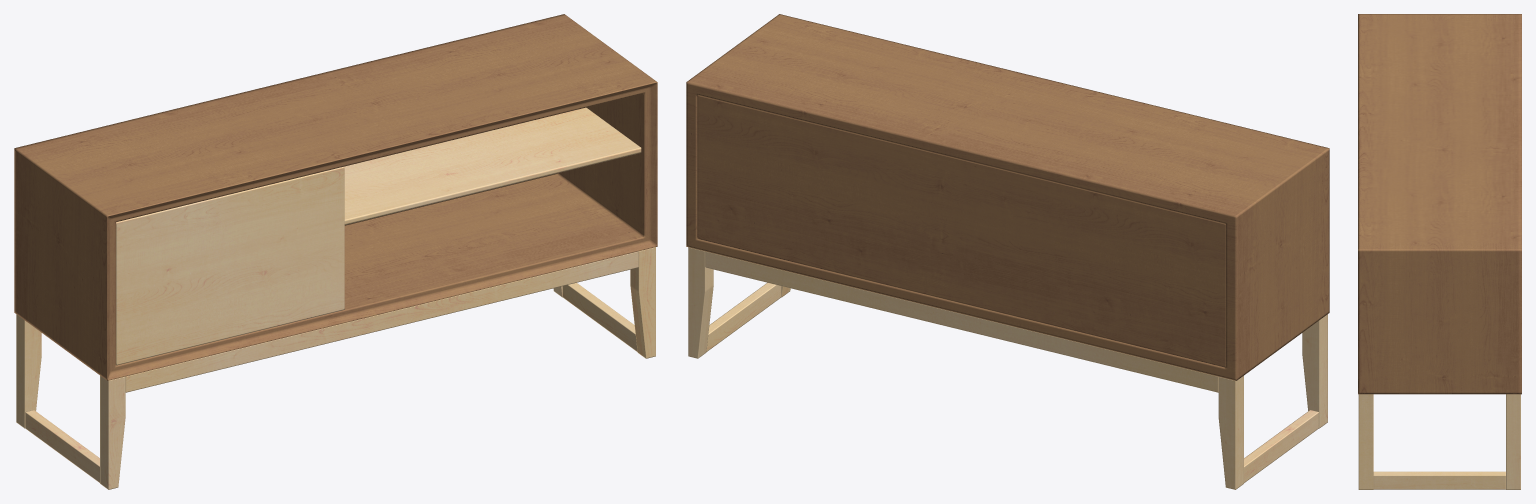
Rendered from chocofur-sideboard-wood.glb.
3 renders of one model, left to right at view 1: azimuth 30°, elevation 25°; view 2: azimuth 150°, elevation 25°; view 3: azimuth 270°, elevation 25°, orthographic. The views are drawn at different scales.
Visible parts, largest first — view 1: Chocofur_Free_08_Wood; view 2: Chocofur_Free_08_Wood; view 3: Chocofur_Free_08_Wood.
Part boxes in pixels (x1,y1,x2,y2): Chocofur_Free_08_Wood: [14, 14, 657, 489]; Chocofur_Free_08_Wood: [686, 14, 1329, 489]; Chocofur_Free_08_Wood: [1358, 14, 1521, 489].
Bounding box in the file's own units: 1.47 × 0.699 × 0.4307.
Materials: 2 (2 with a texture image).
